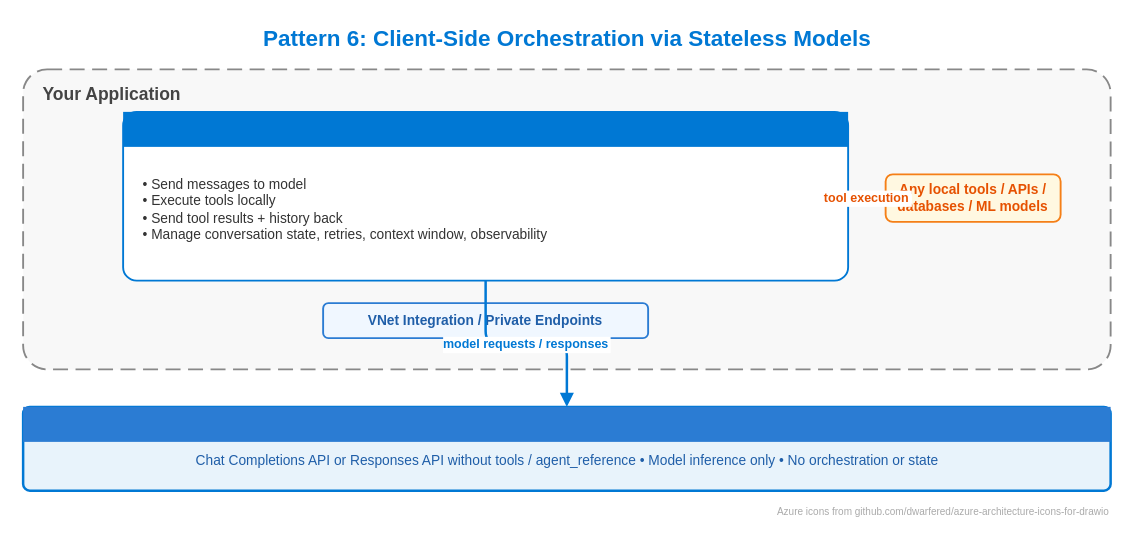
Image size: 1133x541. Some labels were removed from this diagram. The shapes that lost their labels are listed below. From the top down, each one's centre as x and y in pixels, then its label:
At point (485, 128): "Your Orchestration (Semantic Kernel / Agent Framework / LangChain / custom)".
At point (566, 423): "Microsoft Foundry (Model inference endpoint only)".
